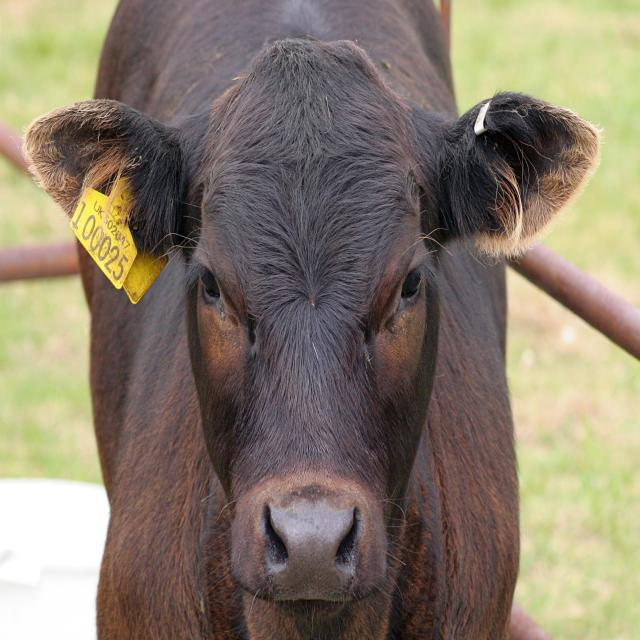cow: (24, 2, 599, 638)
